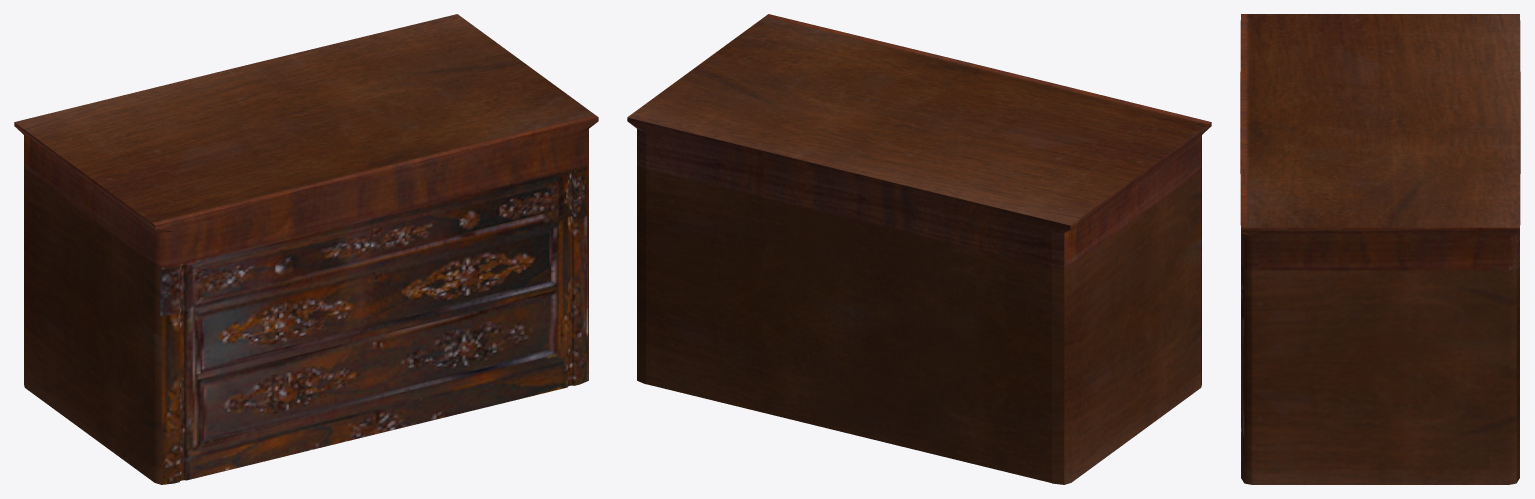
The model's file is cabinet.fbx.
3 views of the same model, side by side, from view 1: azimuth 30°, elevation 25°; view 2: azimuth 150°, elevation 25°; view 3: azimuth 270°, elevation 25° (orthographic).
Visible parts, largest first — view 1: cabinetMesh; view 2: cabinetMesh; view 3: cabinetMesh.
Boxes of the visible parts, x1,y1,x2,y2 form: cabinetMesh: [14, 14, 598, 484]; cabinetMesh: [627, 14, 1211, 484]; cabinetMesh: [1240, 14, 1520, 484].
Bounding box in the file's own units: 147 × 83.36 × 81.68.
